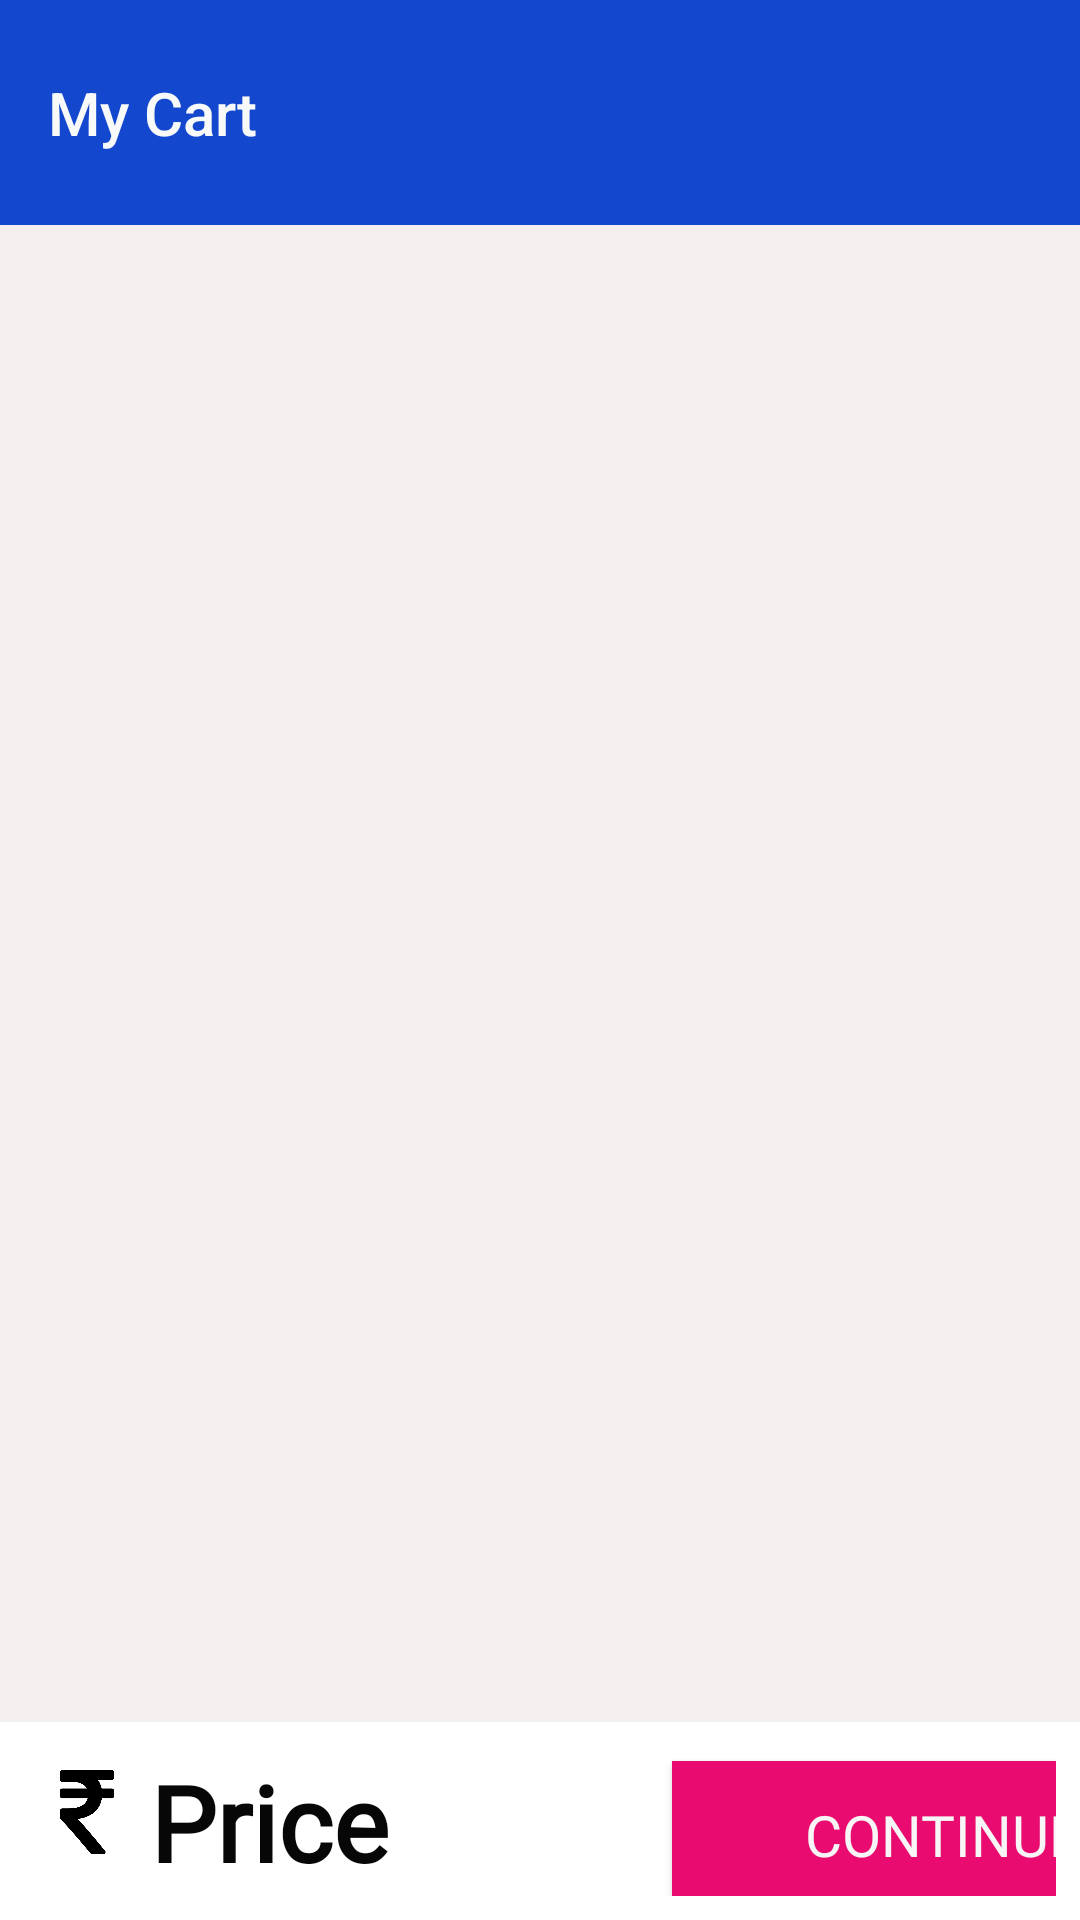

Icons on this 1080px×1920px Android screen, each with its box as detection(x1, y1, x2, y2):
rupay: detection(60, 1770, 114, 1854)
